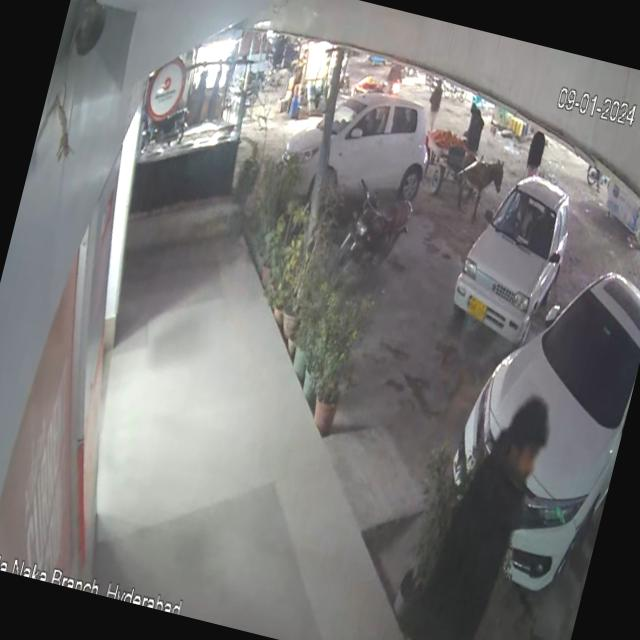Car: (422, 201, 640, 615), (442, 142, 588, 376), (256, 54, 448, 213)
Motorcycle: (331, 167, 421, 289)
